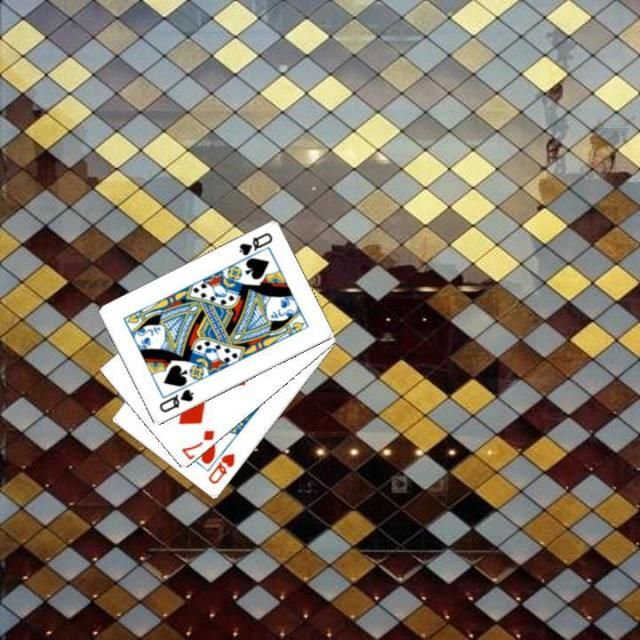7D: (177, 426, 217, 461)
QH: (204, 450, 237, 486)
QS: (154, 386, 196, 414), (234, 229, 274, 258)
